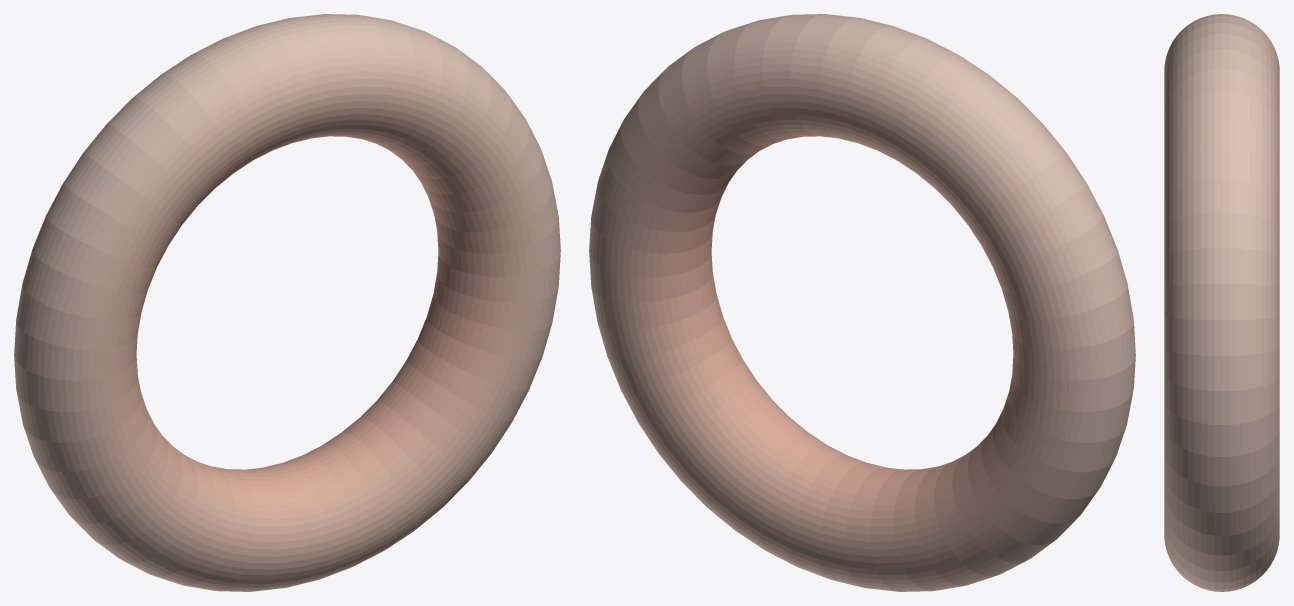
3 views of the same model, side by side, from view 1: azimuth 30°, elevation 25°; view 2: azimuth 150°, elevation 25°; view 3: azimuth 270°, elevation 25° (orthographic). The views are drawn at different scales.
Parts seen in each view (by area): view 1: world; view 2: world; view 3: world.
Part boxes in pixels (left/top/right/bottom): world: left=14, top=14, right=560, bottom=591; world: left=589, top=14, right=1135, bottom=591; world: left=1164, top=14, right=1279, bottom=591.
Size of the model in its own units: 30 by 29.94 by 5.99.
